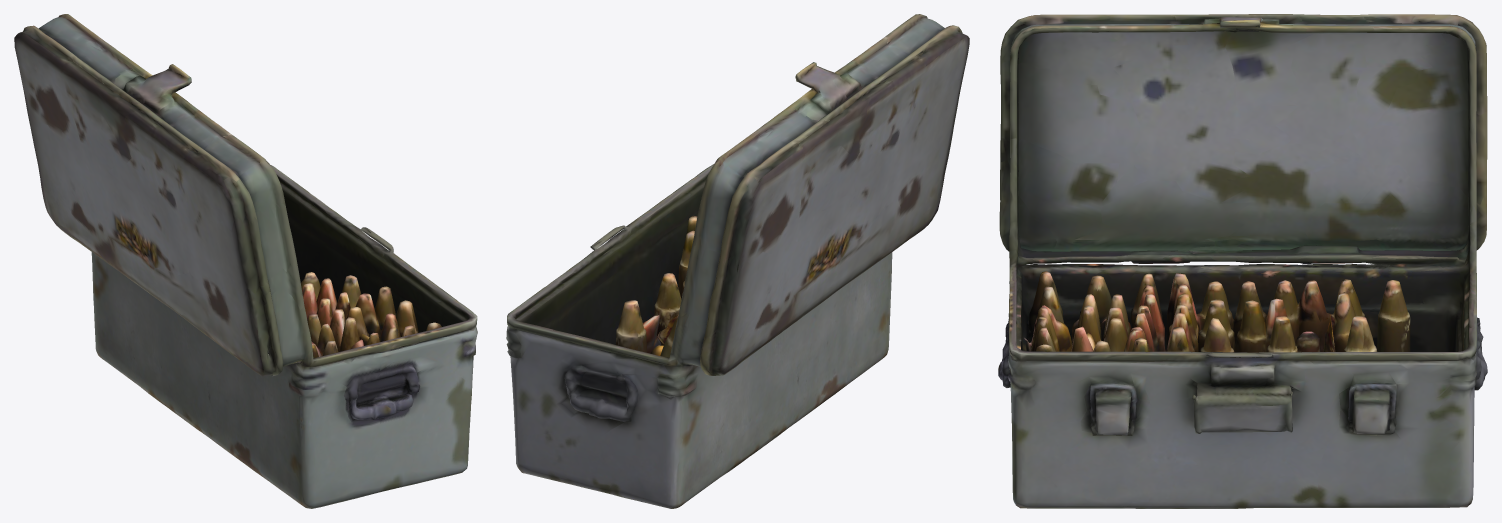
File: max-ammo3.glb
3 renders of one model, left to right at view 1: azimuth 30°, elevation 25°; view 2: azimuth 150°, elevation 25°; view 3: azimuth 270°, elevation 25°, orthographic. The views are drawn at different scales.
Bounding box in the file's own units: 1.39 × 1.79 × 2.
Materials: 1 (1 with a texture image).
